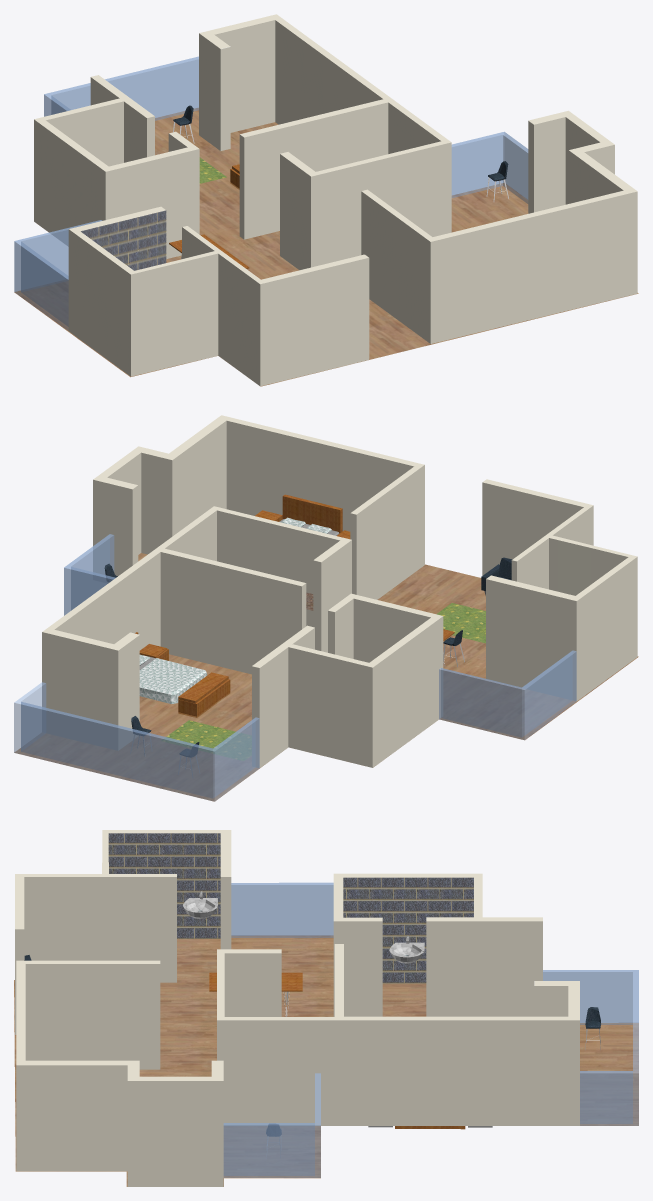
Rendered from 2bhk_sml_centre.gltf.
3 views of the same model, one above another, from view 1: azimuth 30°, elevation 25°; view 2: azimuth 150°, elevation 25°; view 3: azimuth 270°, elevation 25° (orthographic). The views are drawn at different scales.
Parts seen in each view (by area): view 1: SketchUp; view 2: SketchUp; view 3: SketchUp, skp3253.
Part boxes in pixels (x1=…): SketchUp: x1=14, y1=14, x2=638, y2=386; SketchUp: x1=14, y1=415, x2=638, y2=801; SketchUp: x1=14, y1=830, x2=638, y2=1186; skp3253: x1=209, y1=972, x2=302, y2=1016.
Size of the model in its own units: 0.5096 by 0.1051 by 0.5352.
21 materials, 14 textured.
